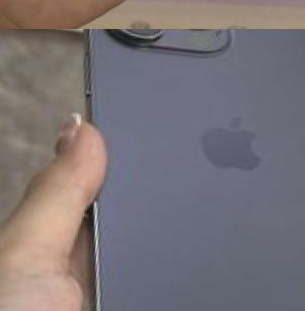scratch: (71, 195, 118, 311)
